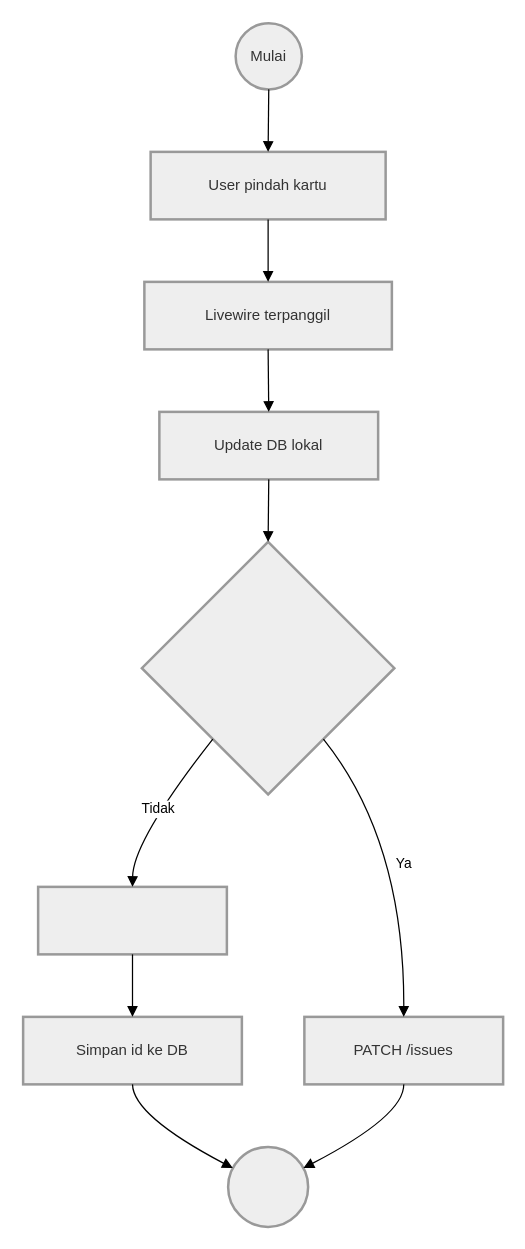
This 525x1249 diagram has some shape labels left out. Each missing label, with the box of its shape:
Ada github_issue_id?: (140, 540, 395, 795)
POST /issues: (36, 885, 228, 955)
Selesai: (226, 1145, 309, 1228)
